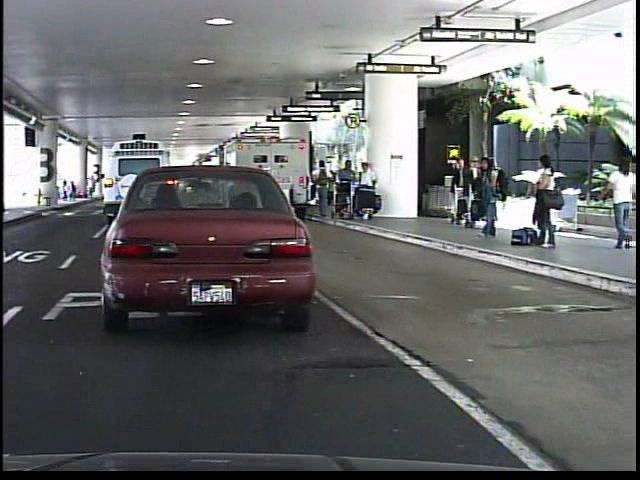person: (600, 154, 638, 250), (529, 149, 558, 252)
